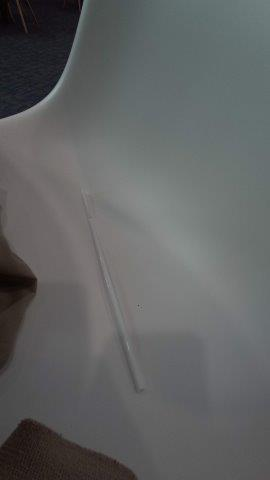sedotan: (81, 189, 146, 392)
